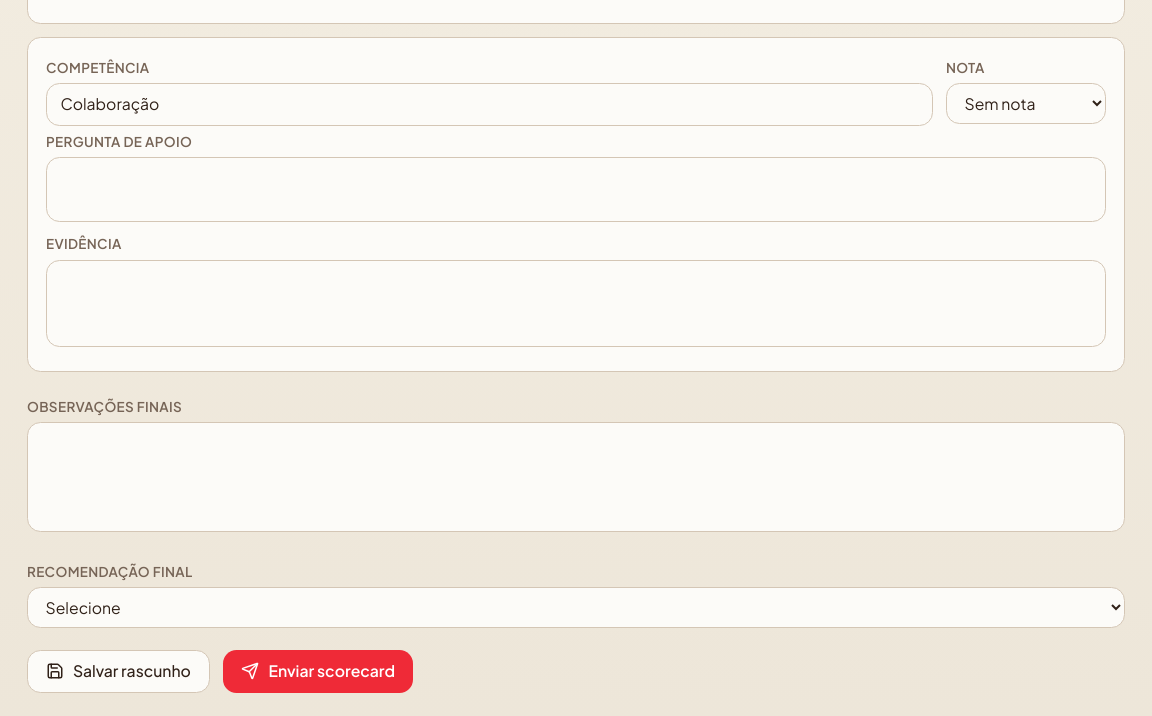
Test case: InterviewScorecardPanel › bloqueia submit sem recomendação
(page scrolled)
Click the button "Enviar scorecard" at (318, 671), box [223,650,413,692]
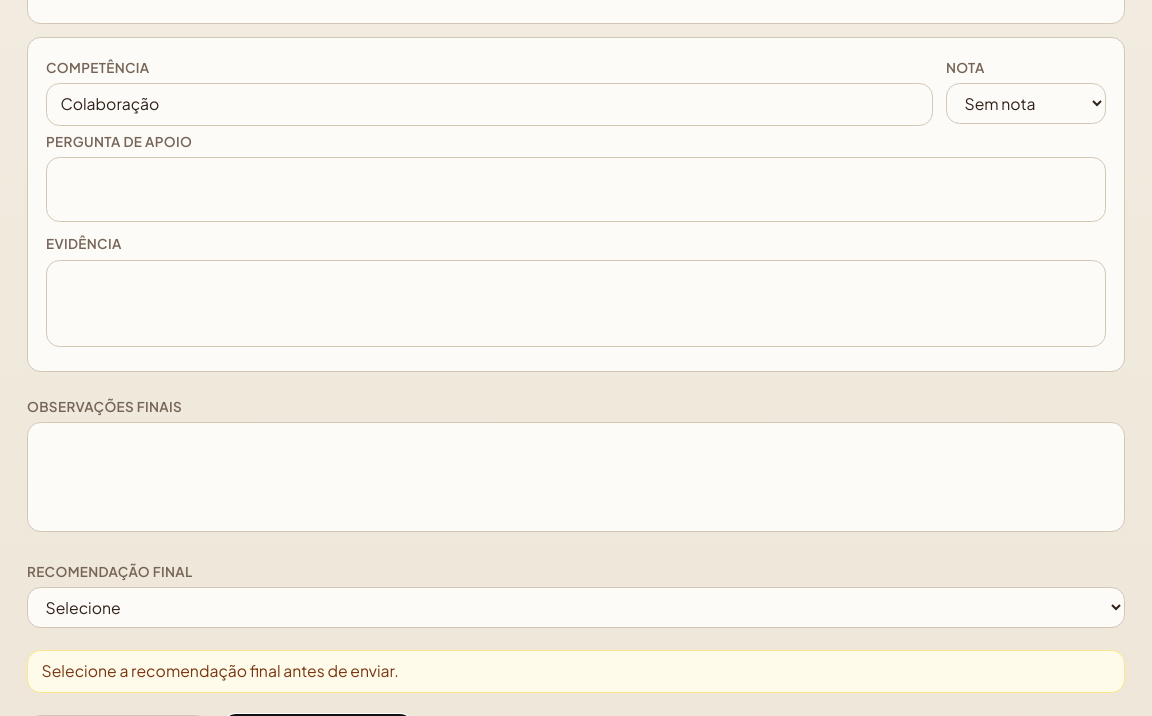
expect the text "Selecione a recomendação final antes de enviar." is shown: met, box [27,650,1125,692]
